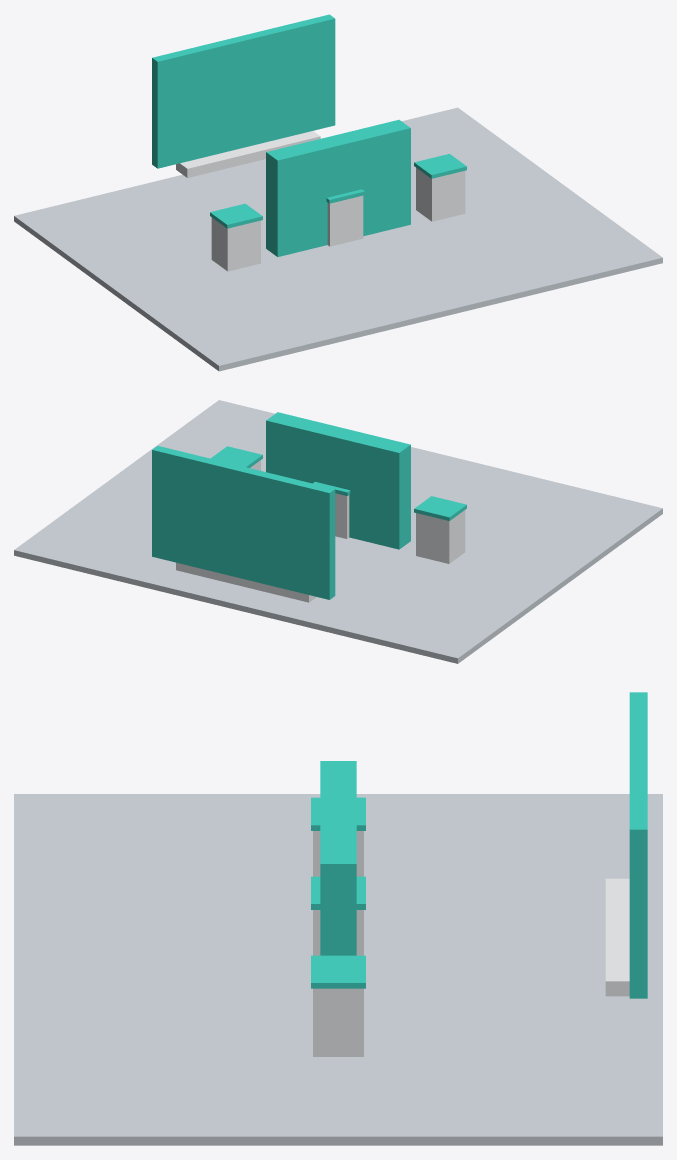
The picture shows the model from 3 angles, top to bottom: view 1: azimuth 30°, elevation 25°; view 2: azimuth 150°, elevation 25°; view 3: azimuth 270°, elevation 25°; orthographic projection. The views are drawn at different scales.
Visible parts, largest first — view 1: Exhibition Booth Concept; view 2: Exhibition Booth Concept; view 3: Exhibition Booth Concept.
Boxes of the visible parts, x1,y1,x2,y2 form: Exhibition Booth Concept: (14,14,662,371); Exhibition Booth Concept: (14,400,662,663); Exhibition Booth Concept: (14,692,662,1145).
Size of the model in its own units: 10 by 2.9 by 8.
